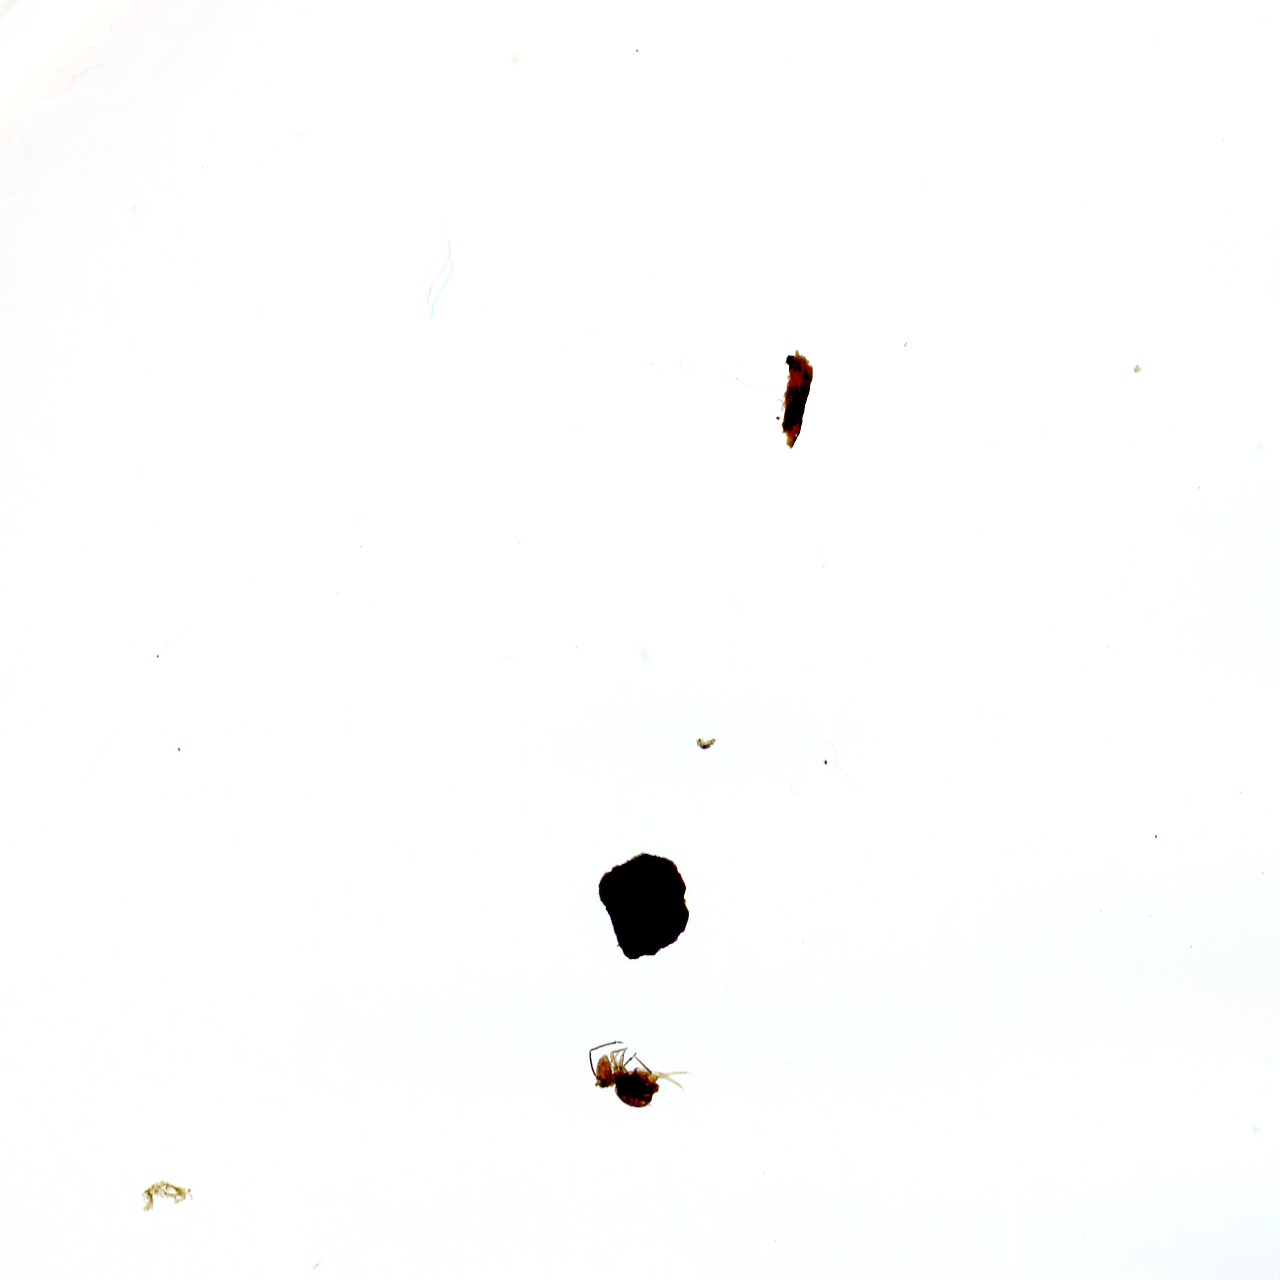arthropod: (568, 1029, 703, 1122)
